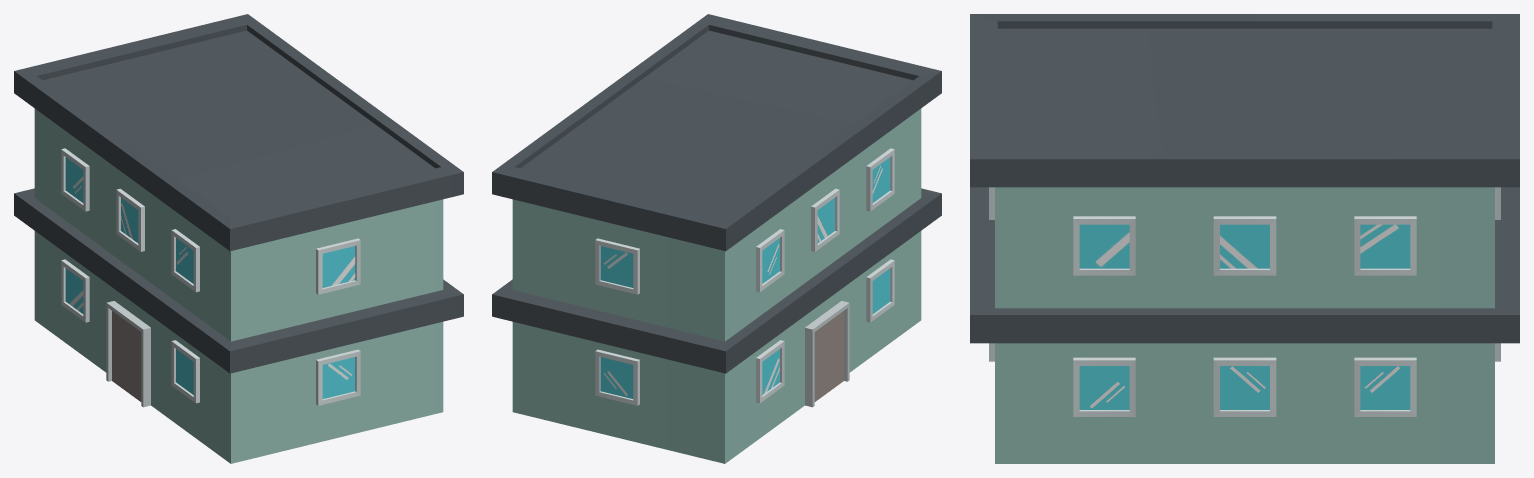
Rendered from building3.fbx.
The picture shows the model from 3 angles, left to right: view 1: azimuth 30°, elevation 25°; view 2: azimuth 150°, elevation 25°; view 3: azimuth 270°, elevation 25°; orthographic projection. The views are drawn at different scales.
Parts seen in each view (by area): view 1: Cube.014, Cube.016, Cube.015; view 2: Cube.014, Cube.016, Cube.015; view 3: Cube.014, Cube.016.
Boxes of the visible parts, box(x1,y1,x2,y2) form: Cube.014: box(14, 14, 463, 463); Cube.016: box(61, 148, 360, 405); Cube.015: box(106, 301, 150, 407); Cube.014: box(492, 14, 941, 463); Cube.016: box(595, 148, 894, 405); Cube.015: box(805, 301, 849, 407); Cube.014: box(970, 14, 1519, 463); Cube.016: box(989, 187, 1500, 416).
Bounding box in the file's own units: 22.02 × 22.02 × 35.24.
Materials: 1 (1 with a texture image).
